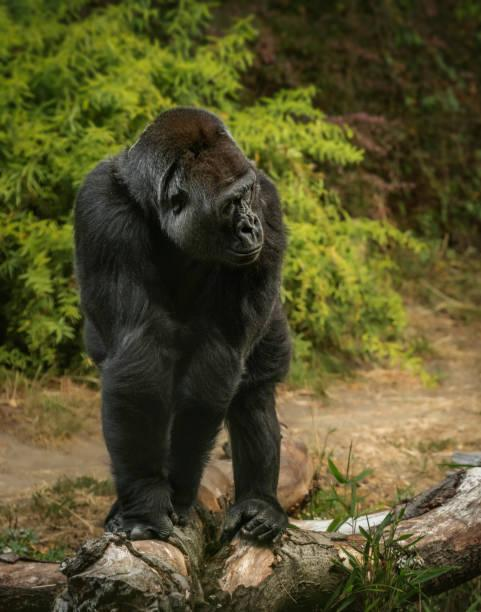gorille_Autres: (55, 55, 366, 576)
